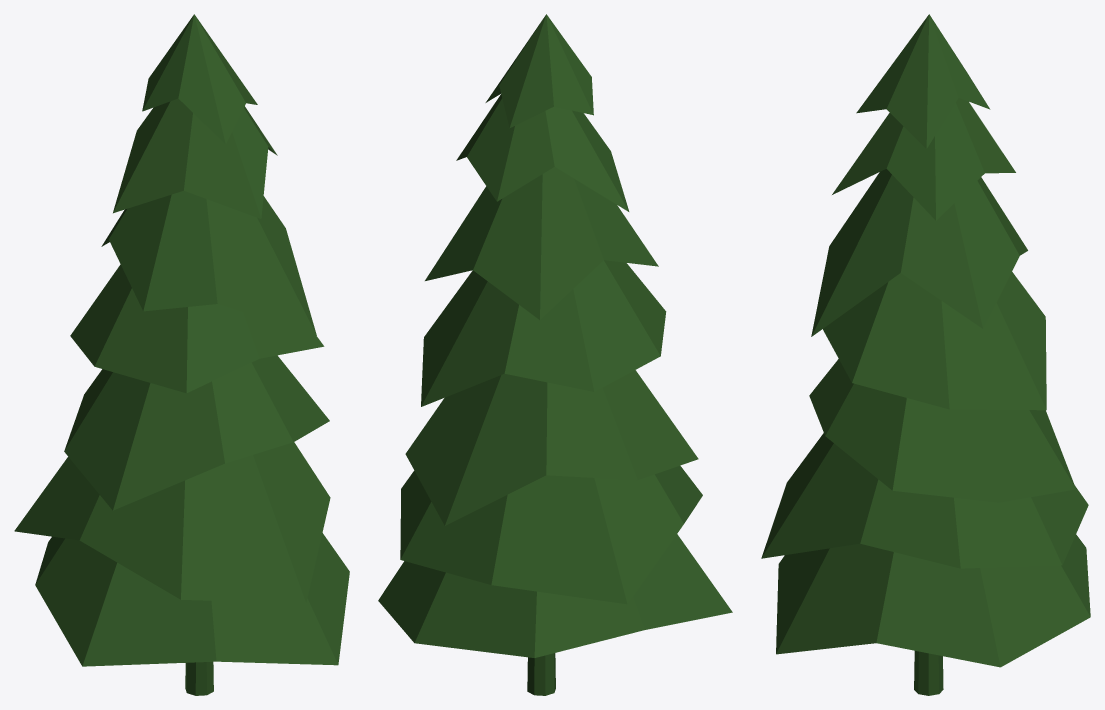
The model's file is Saplin4.FBX.
The picture shows the model from 3 angles, left to right: view 1: azimuth 30°, elevation 25°; view 2: azimuth 150°, elevation 25°; view 3: azimuth 270°, elevation 25°; orthographic projection.
Visible parts, largest first — view 1: Saplin4; view 2: Saplin4; view 3: Saplin4.
Boxes of the visible parts, x1,y1,x2,y2 form: Saplin4: (14, 14, 349, 695); Saplin4: (378, 14, 732, 695); Saplin4: (761, 14, 1090, 695).
Size of what is drawn, in the model's own units: 281 by 287 by 647.
